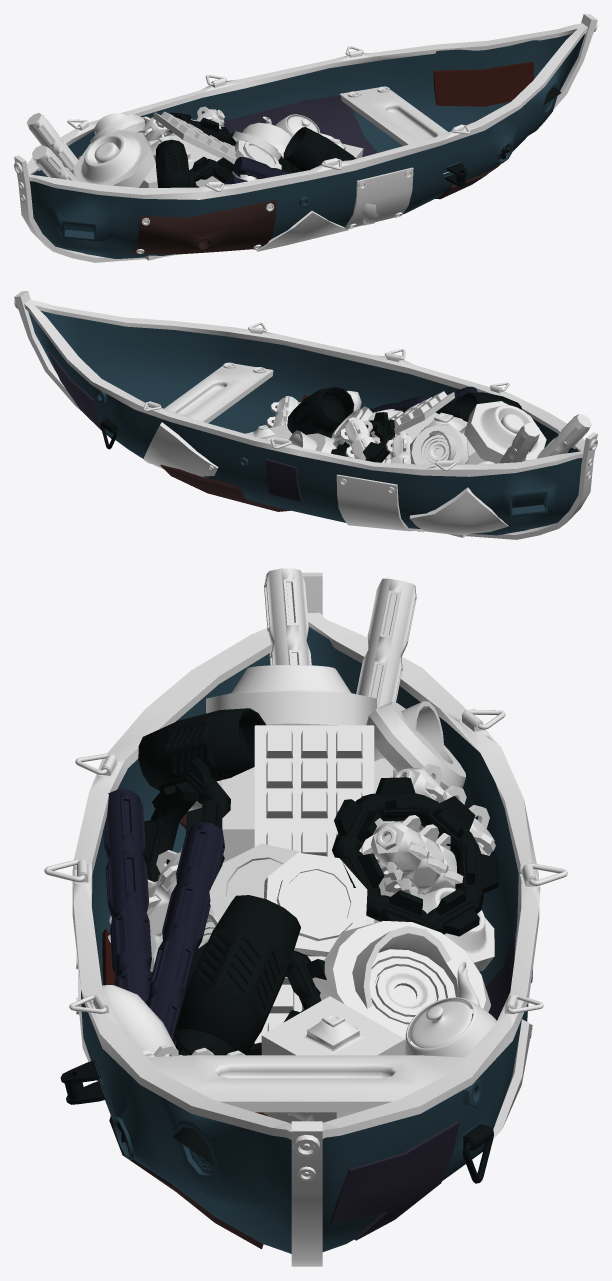
The model's file is JunkBoat01.fbx.
3 views of the same model, one above another, from view 1: azimuth 30°, elevation 25°; view 2: azimuth 150°, elevation 25°; view 3: azimuth 270°, elevation 25° (orthographic). The views are drawn at different scales.
Parts seen in each view (by area): view 1: BoatBody002, JunkBoat01, Line023, Cylinder011, Box014, Line024, Line022, Cylinder022, Cylinder023, Box020, Plane003, Cylinder010 (+12 smaller); view 2: BoatBody002, Line023, JunkBoat01, Box014, Cylinder011, Line025, Line022, Box017, Cylinder022, Box016, Cylinder019, Torus009 (+12 smaller); view 3: BoatBody002, Line023, Box020, Box014, Cylinder022, JunkBoat01, Cylinder012, Torus009, Cylinder018, Cylinder017, Cylinder011, Cylinder021 (+17 smaller).
Part boxes in pixels (left/top/right/bottom): BoatBody002: left=29, top=33, right=584, bottom=258; JunkBoat01: left=131, top=61, right=561, bottom=254; Line023: left=27, top=23, right=587, bottom=199; Cylinder011: left=73, top=130, right=155, bottom=187; Box014: left=339, top=86, right=449, bottom=174; Line024: left=345, top=167, right=413, bottom=229; Line022: left=14, top=14, right=597, bottom=262; Cylinder022: left=283, top=127, right=356, bottom=171; Cylinder023: left=155, top=140, right=189, bottom=187; Box020: left=153, top=111, right=237, bottom=164; Plane003: left=256, top=211, right=349, bottom=251; Cylinder010: left=26, top=113, right=78, bottom=176; BoatBody002: left=28, top=310, right=582, bottom=535; Line023: left=24, top=300, right=585, bottom=476; JunkBoat01: left=48, top=352, right=308, bottom=511; Box014: left=164, top=364, right=273, bottom=423; Cylinder011: left=464, top=401, right=546, bottom=463; Line025: left=336, top=474, right=423, bottom=531; Line022: left=14, top=291, right=597, bottom=539; Box017: left=409, top=487, right=508, bottom=534; Cylinder022: left=287, top=386, right=354, bottom=434; Box016: left=143, top=422, right=218, bottom=477; Cylinder019: left=410, top=423, right=468, bottom=464; Torus009: left=331, top=412, right=394, bottom=462; BoatBody002: left=81, top=626, right=532, bottom=1253; Line023: left=44, top=612, right=567, bottom=1139; Box020: left=254, top=725, right=374, bottom=1043; Box014: left=100, top=1055, right=464, bottom=1112; Cylinder022: left=173, top=895, right=300, bottom=1055; JunkBoat01: left=60, top=812, right=516, bottom=1249; Cylinder012: left=312, top=921, right=490, bottom=1048; Torus009: left=332, top=777, right=498, bottom=936; Cylinder018: left=103, top=789, right=151, bottom=1002; Cylinder017: left=145, top=822, right=224, bottom=1046; Cylinder011: left=206, top=665, right=376, bottom=725; Cylinder021: left=264, top=852, right=367, bottom=956.
Bounding box in the file's own units: 489 × 124 × 191.
